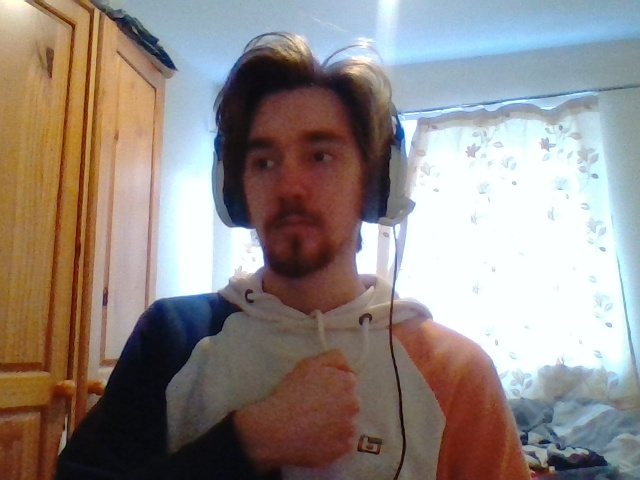morning: (271, 350, 359, 464)
